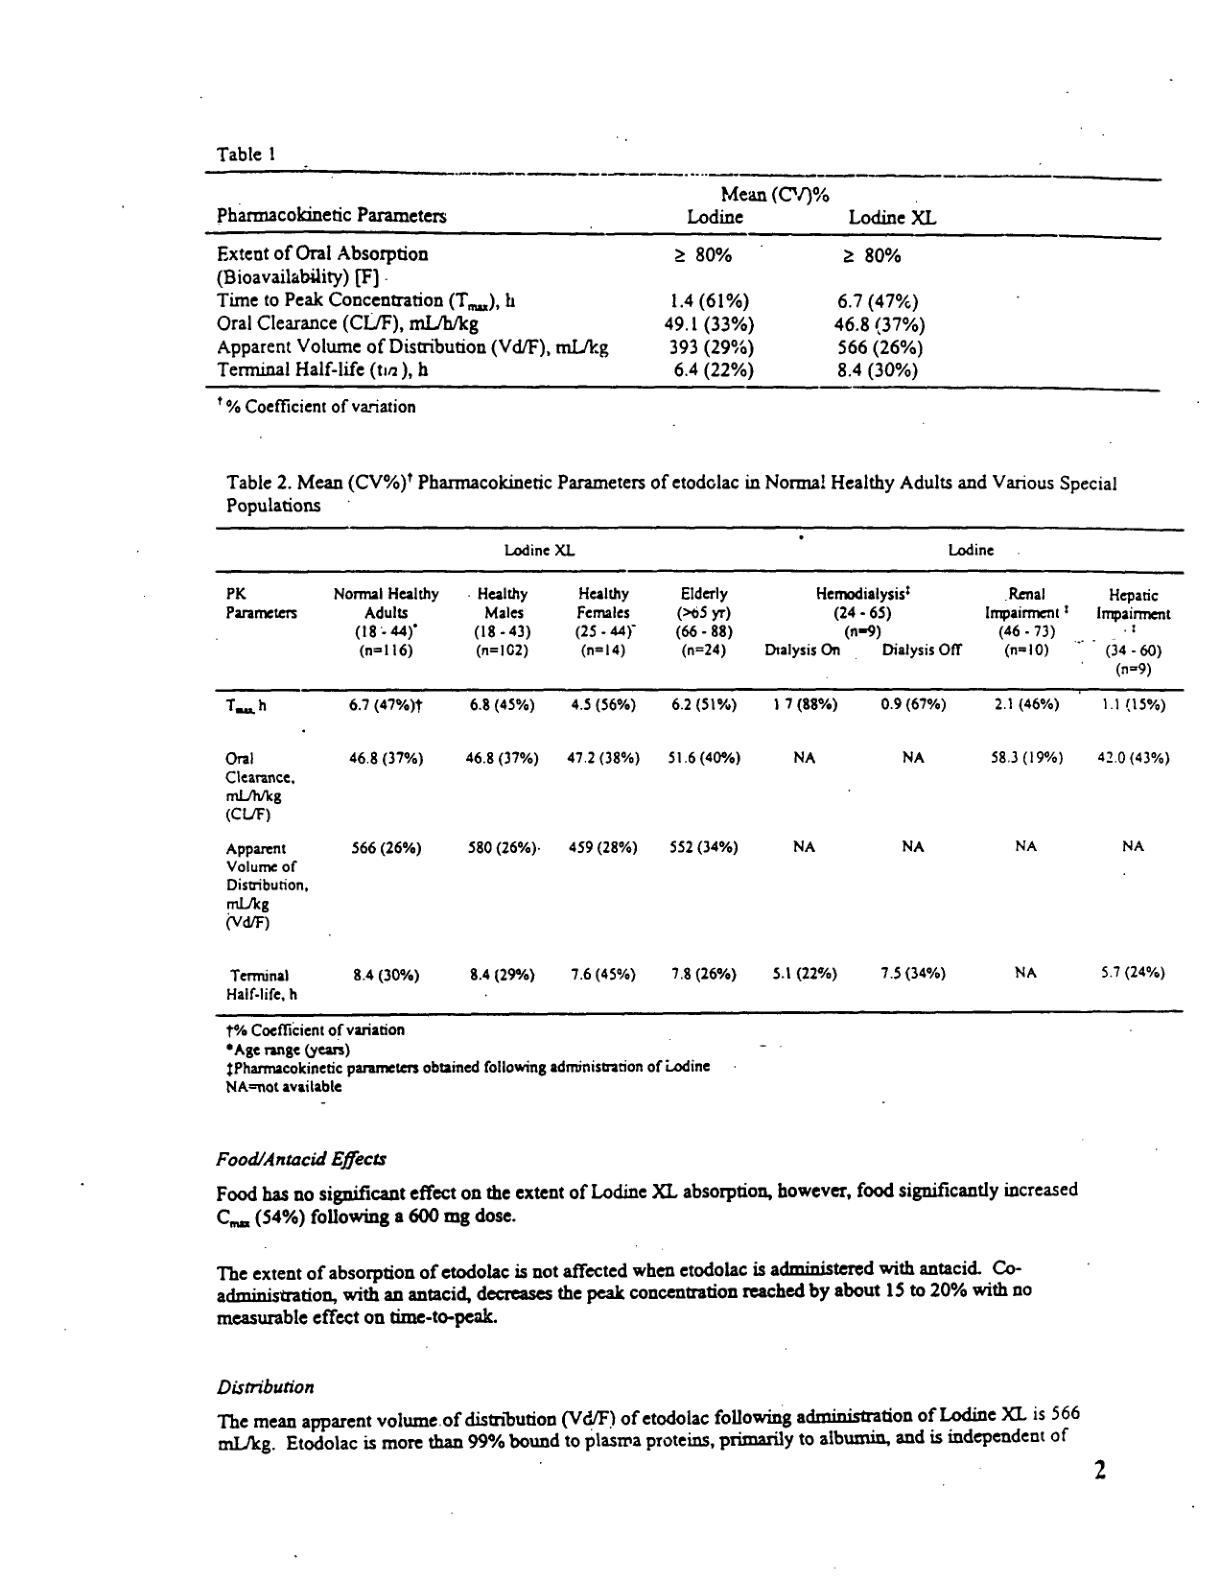partial_lined_merged_cells: (212, 526, 1183, 1019), (202, 168, 1162, 394)
